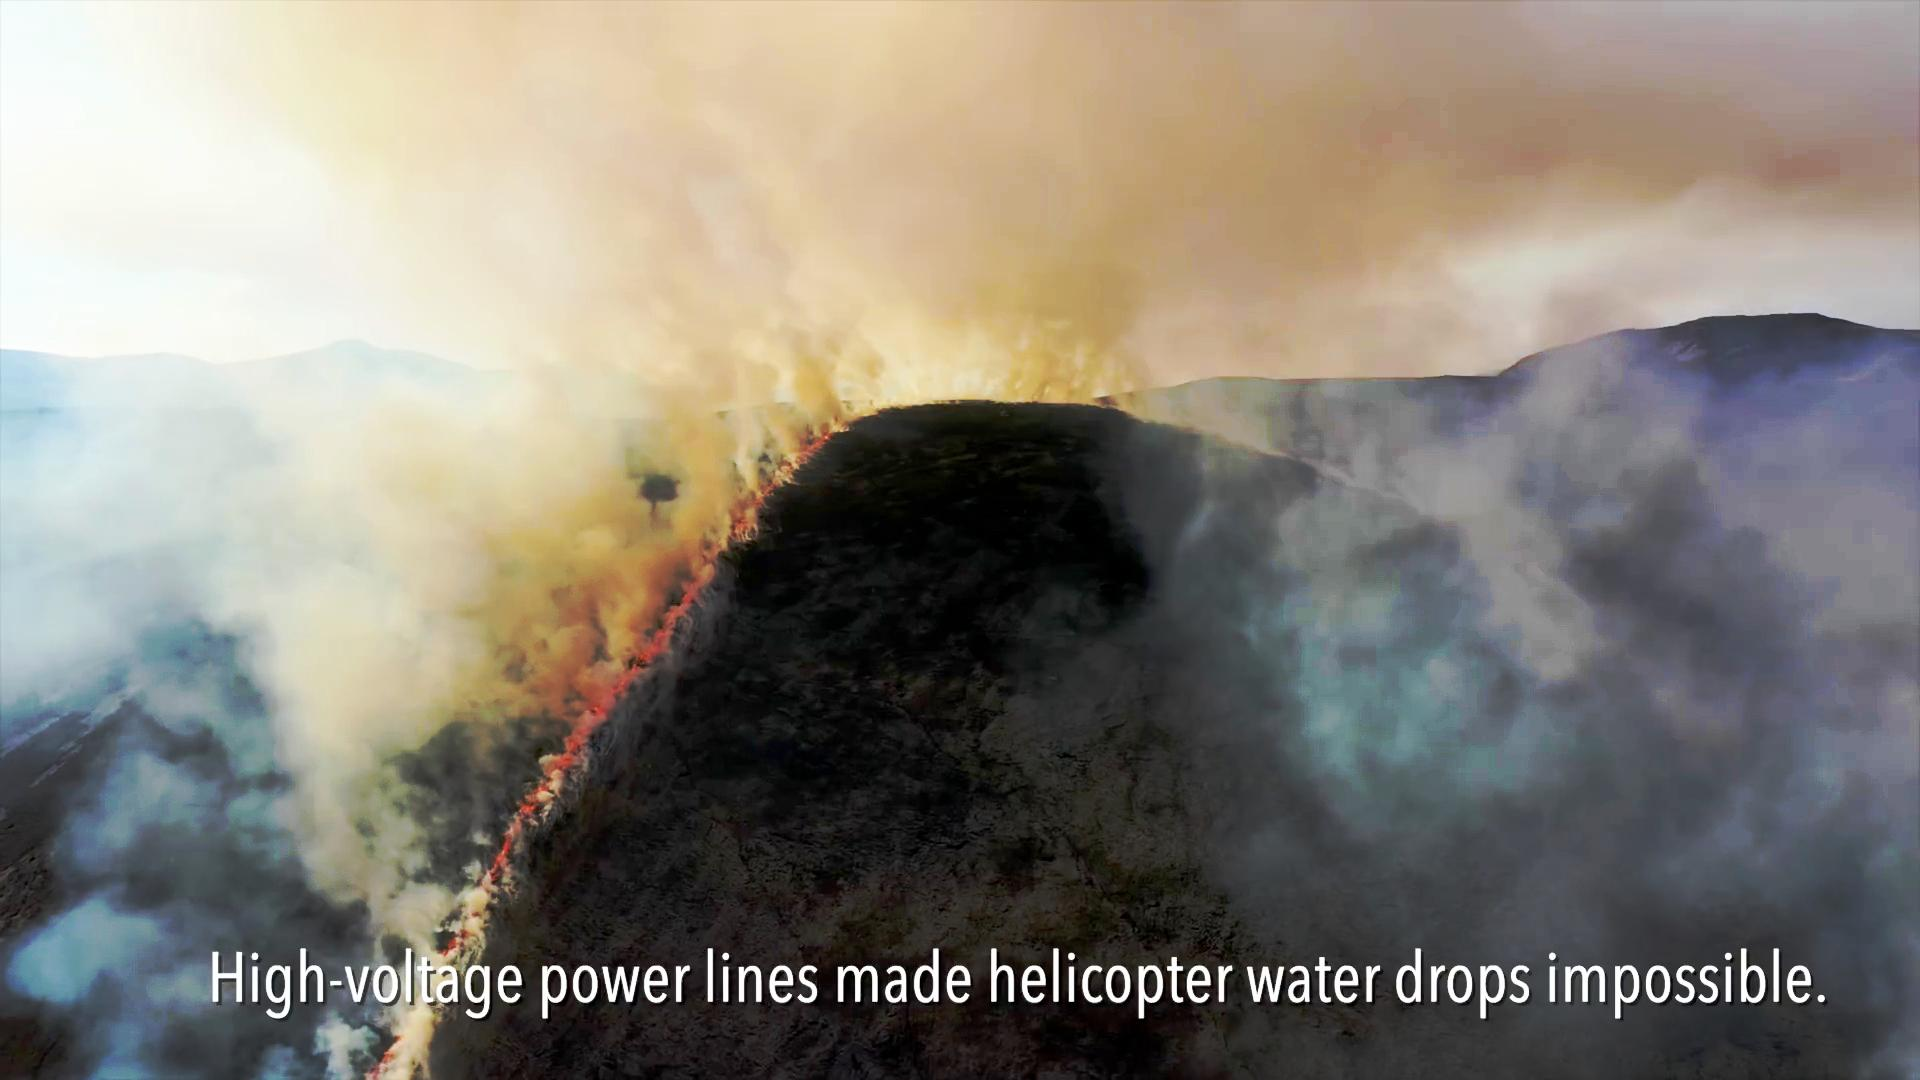smoke: (1068, 393, 1920, 1080), (189, 371, 707, 752)
